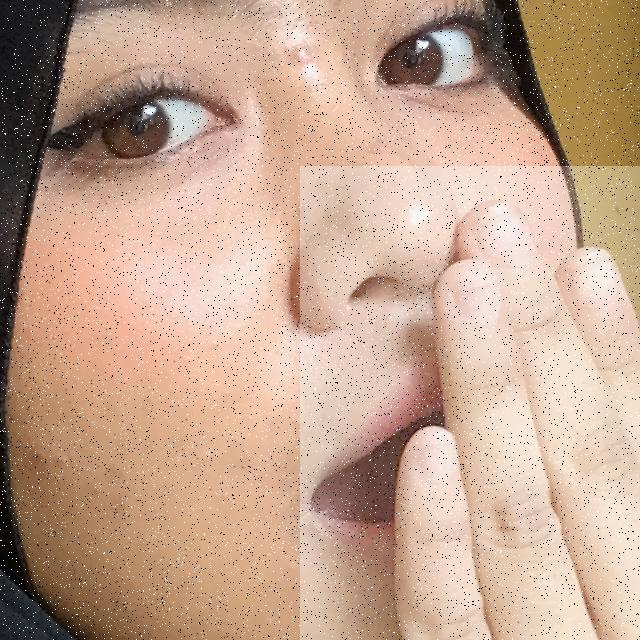ngantuk: (300, 166, 640, 640)
